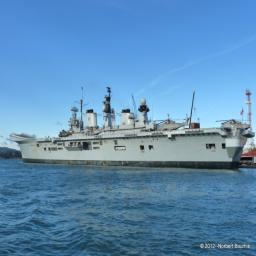Portanaves: (14, 86, 256, 175)
